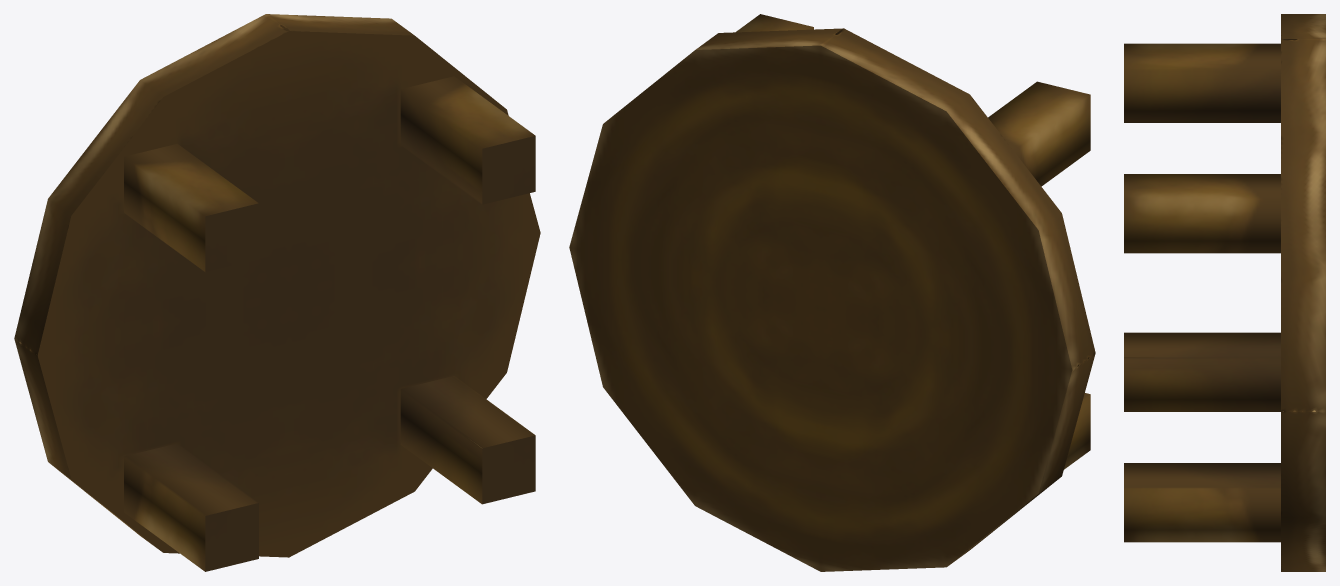
Rendered from props_table_round.fbx.
The picture shows the model from 3 angles, left to right: view 1: azimuth 30°, elevation 25°; view 2: azimuth 150°, elevation 25°; view 3: azimuth 270°, elevation 25°; orthographic projection. The views are drawn at different scales.
Parts seen in each view (by area): view 1: table_round; view 2: table_round; view 3: table_round.
Boxes of the visible parts, <box> form: table_round: <box>14,14,540,571</box>; table_round: <box>569,14,1095,571</box>; table_round: <box>1124,14,1325,571</box>.
Bounding box in the file's own units: 1.51 × 1.51 × 0.5429.
Materials: 1 (1 with a texture image).
